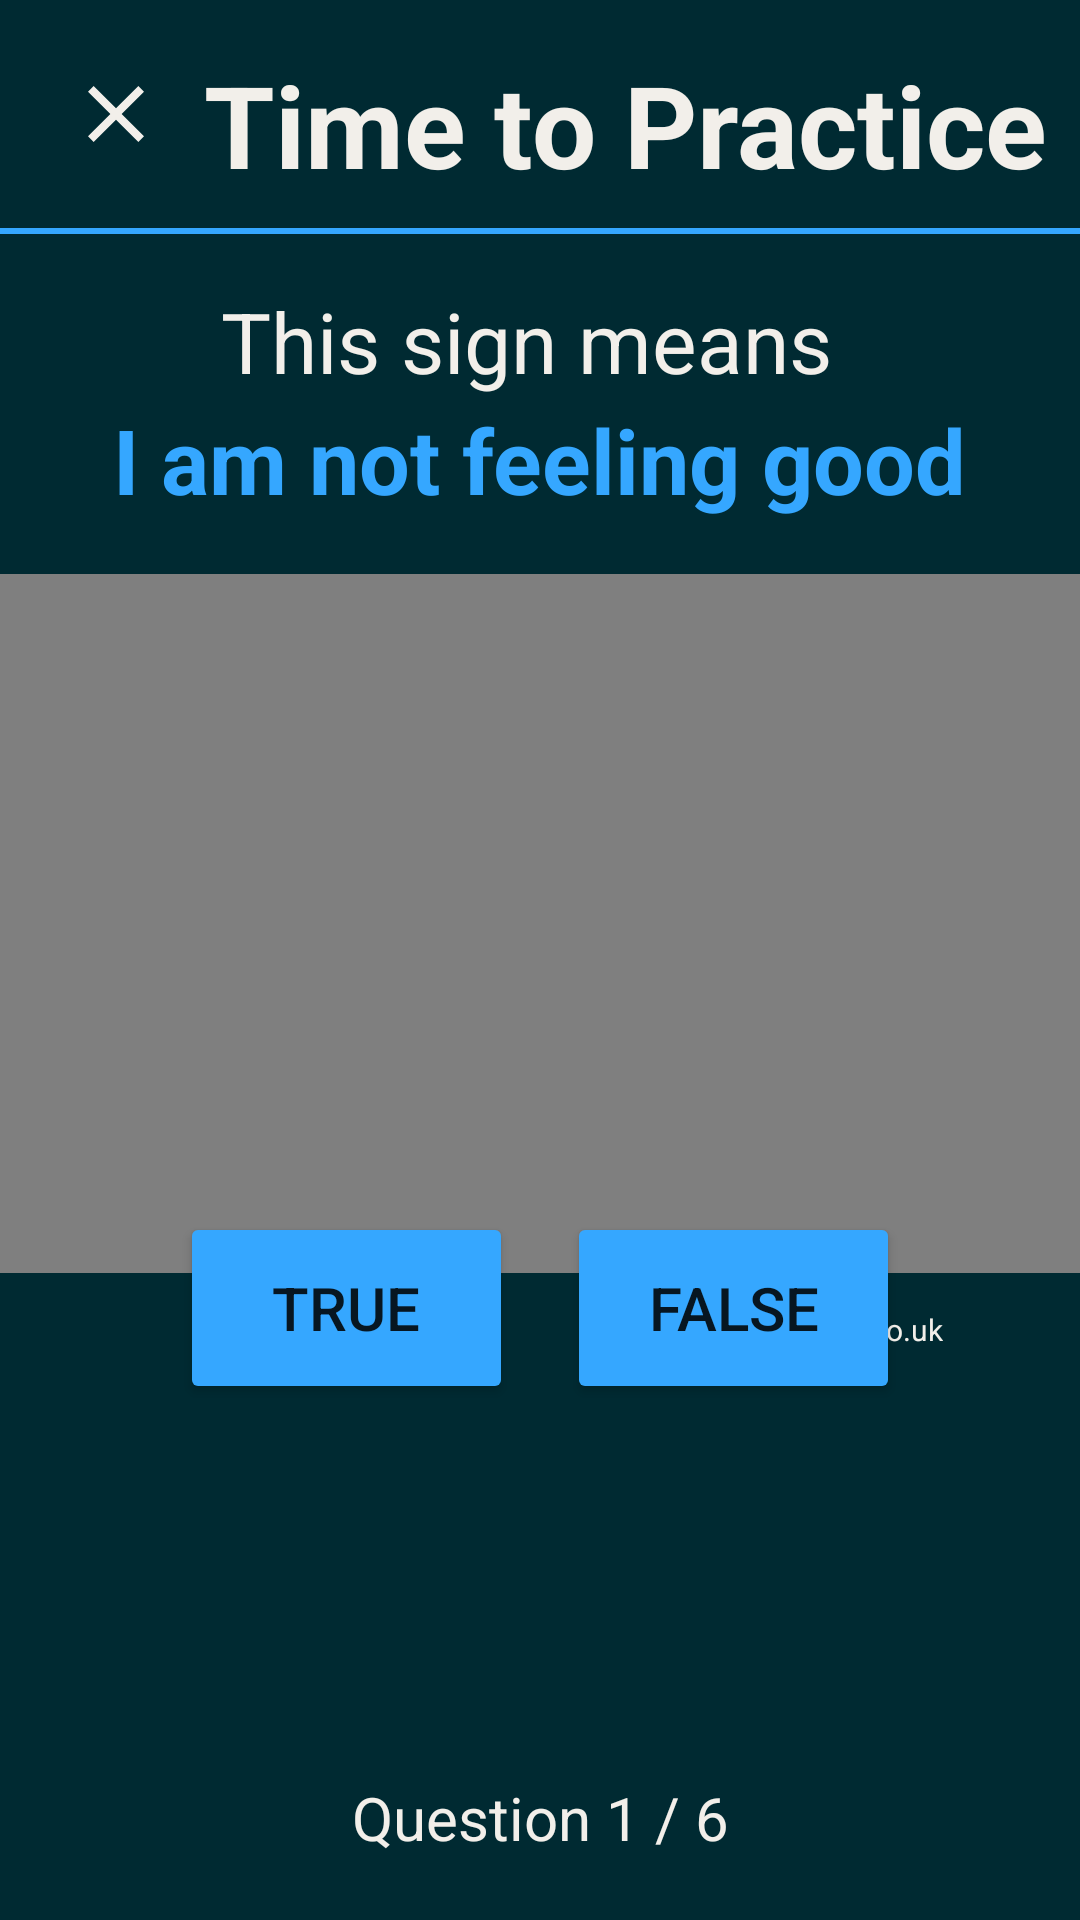

Named icons in this screenshot (1080 × 1920) and their bounding boxes, (x1, y1, x2, y2):
cross cream: (88, 86, 144, 142)
